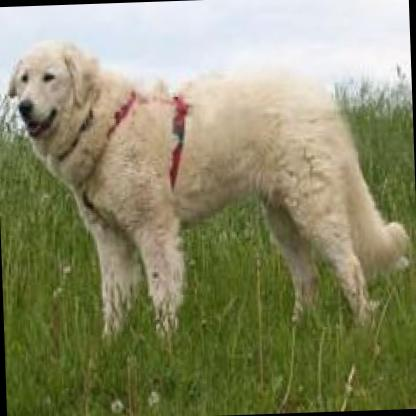kuvasz: (0, 19, 414, 414)
